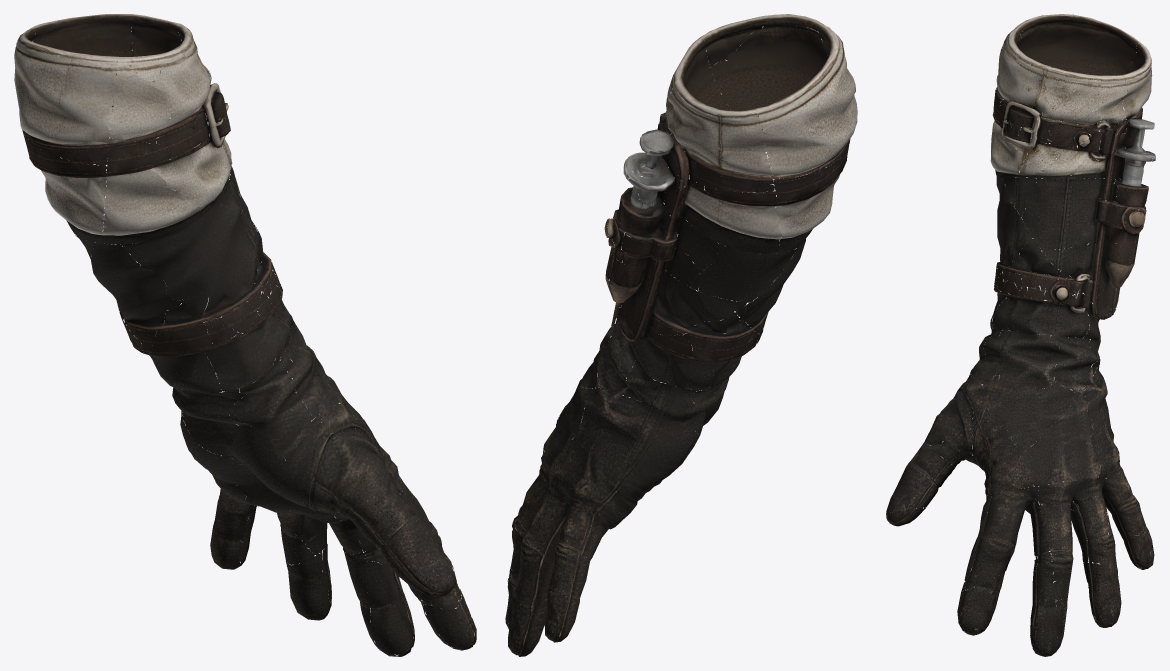
File: a_ward_gloves.glb
3 views of the same model, side by side, from view 1: azimuth 30°, elevation 25°; view 2: azimuth 150°, elevation 25°; view 3: azimuth 270°, elevation 25° (orthographic). The views are drawn at different scales.
Parts seen in each view (by area): view 1: tripo_node_96c35e25-aec8-42d2-b09c-9cceb882ffe5; view 2: tripo_node_96c35e25-aec8-42d2-b09c-9cceb882ffe5; view 3: tripo_node_96c35e25-aec8-42d2-b09c-9cceb882ffe5.
Boxes of the visible parts, x1=… form: tripo_node_96c35e25-aec8-42d2-b09c-9cceb882ffe5: x1=14, y1=14, x2=476, y2=656; tripo_node_96c35e25-aec8-42d2-b09c-9cceb882ffe5: x1=505, y1=14, x2=857, y2=656; tripo_node_96c35e25-aec8-42d2-b09c-9cceb882ffe5: x1=886, y1=14, x2=1155, y2=656.
Bounding box in the file's own units: 0.5697 × 0.9781 × 0.4591.
1 material, 1 textured.
